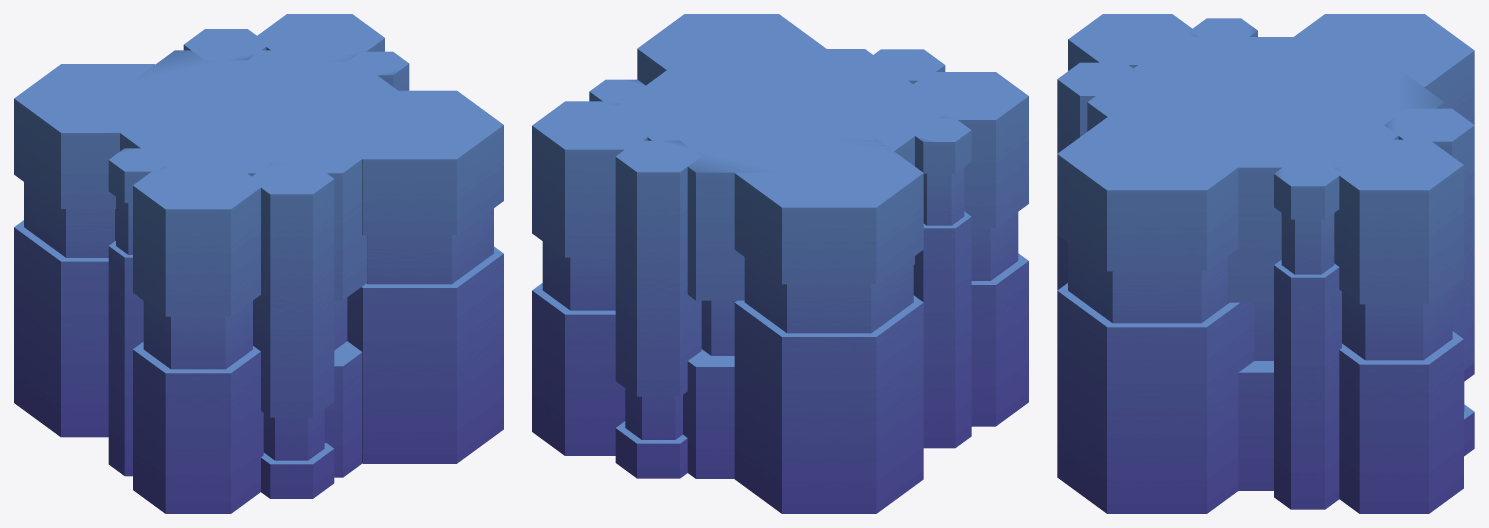
File: Rocky-Slab.fbx
3 renders of one model, left to right at view 1: azimuth 30°, elevation 25°; view 2: azimuth 150°, elevation 25°; view 3: azimuth 270°, elevation 25°, orthographic. The views are drawn at different scales.
Visible parts, largest first — view 1: Cylinder.001; view 2: Cylinder.001; view 3: Cylinder.001.
Boxes of the visible parts, <box> form: Cylinder.001: <box>14,14,503,513</box>; Cylinder.001: <box>532,14,1028,513</box>; Cylinder.001: <box>1057,14,1474,513</box>.
Bounding box in the file's own units: 1 × 0.8551 × 1.
